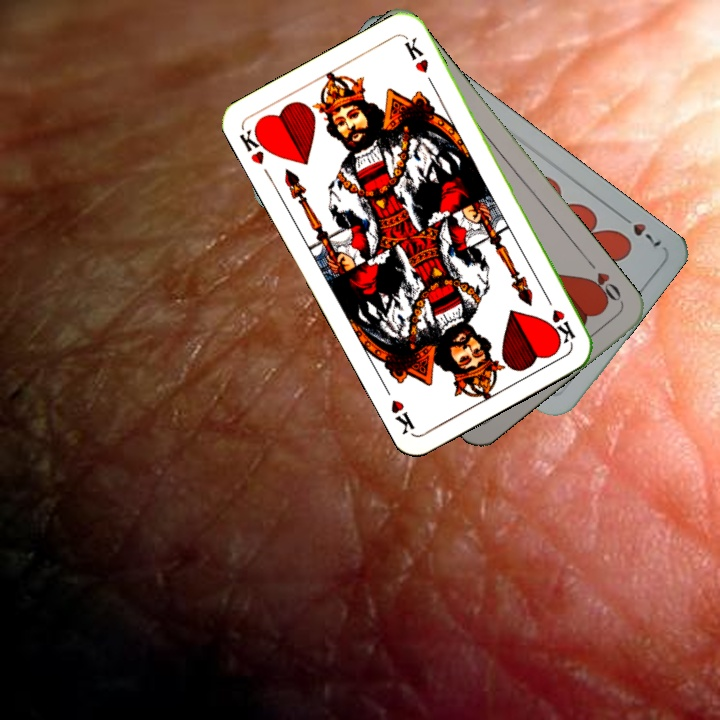H7: (614, 209, 665, 250)
HK: (540, 290, 578, 347), (235, 121, 274, 168)
HO: (582, 255, 625, 307)
